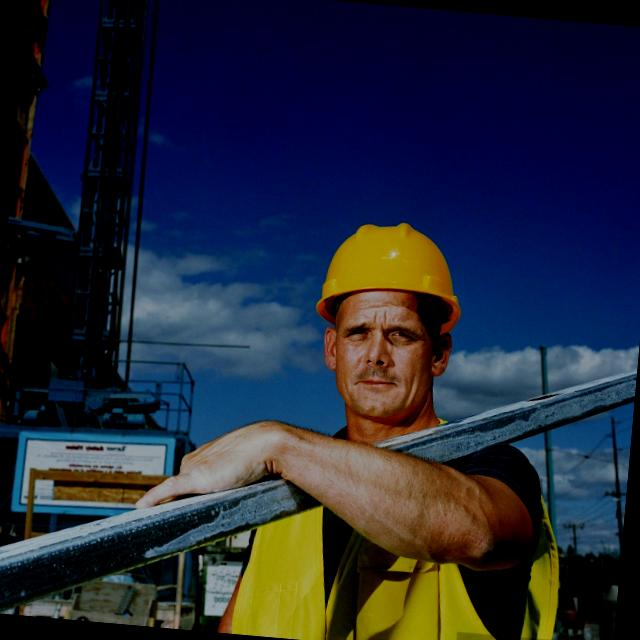helmet: (308, 208, 474, 314)
